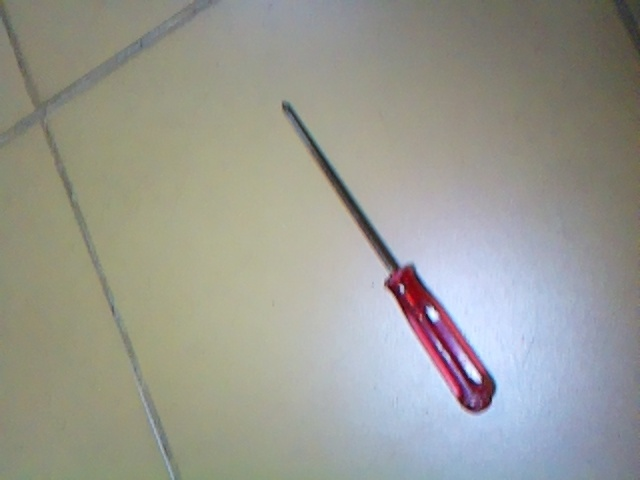redskrew: (268, 100, 504, 418)
